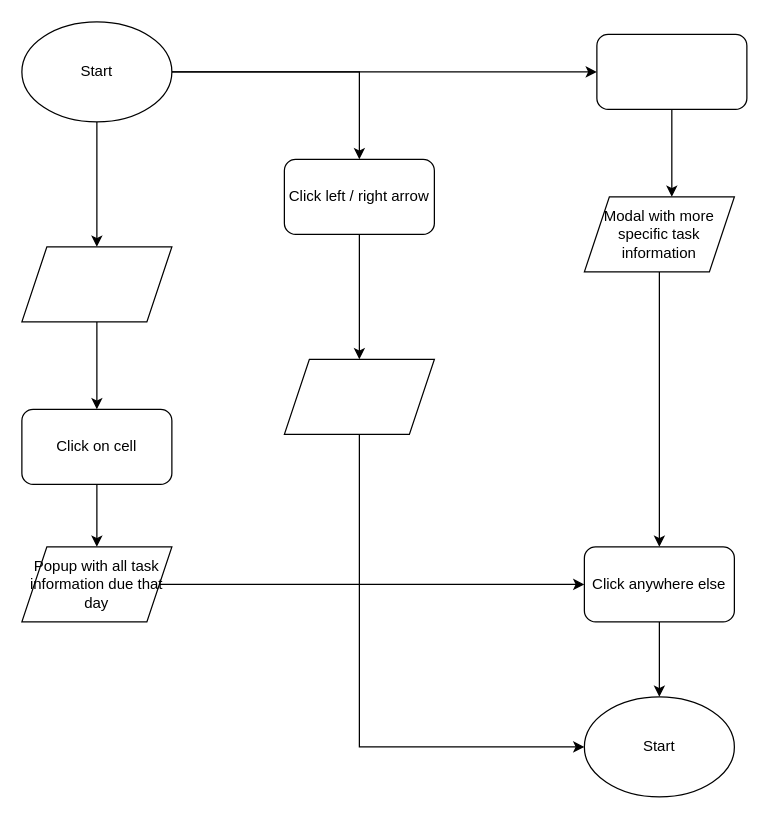
Some shapes in this 769 by 819 pixel diagram are drawn without their labels. Here are the shapes that lost their labels. From the top down, the centre of each, then its label:
At point (671, 71): "Click on task text".
At point (96, 284): "Calendar View".
At point (358, 396): "Calendar view with next / previous month".
